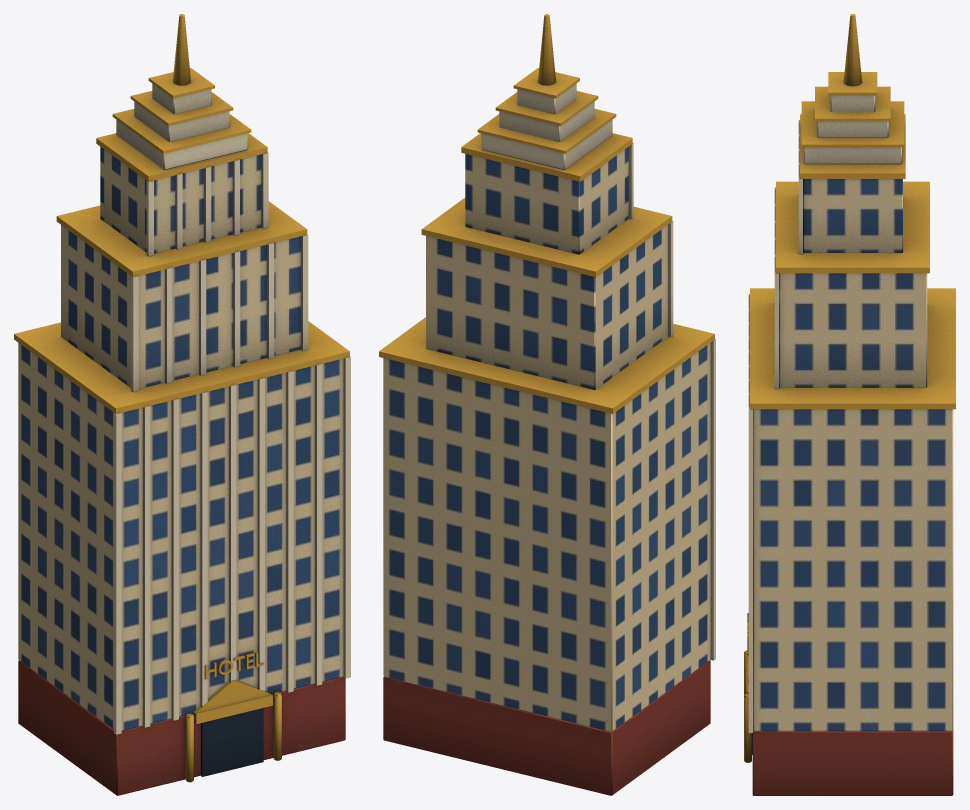
The model's file is artdeco.glb.
3 renders of one model, left to right at view 1: azimuth 30°, elevation 25°; view 2: azimuth 150°, elevation 25°; view 3: azimuth 270°, elevation 25°, orthographic.
Visible parts, largest first — view 1: artdeco; view 2: artdeco; view 3: artdeco.
Part boxes in pixels (<box>): artdeco: <box>14,14,350,795</box>; artdeco: <box>379,14,715,795</box>; artdeco: <box>744,14,955,795</box>.
Bounding box in the file's own units: 6.14 × 17.93 × 4.75.
Materials: 1 (1 with a texture image).
